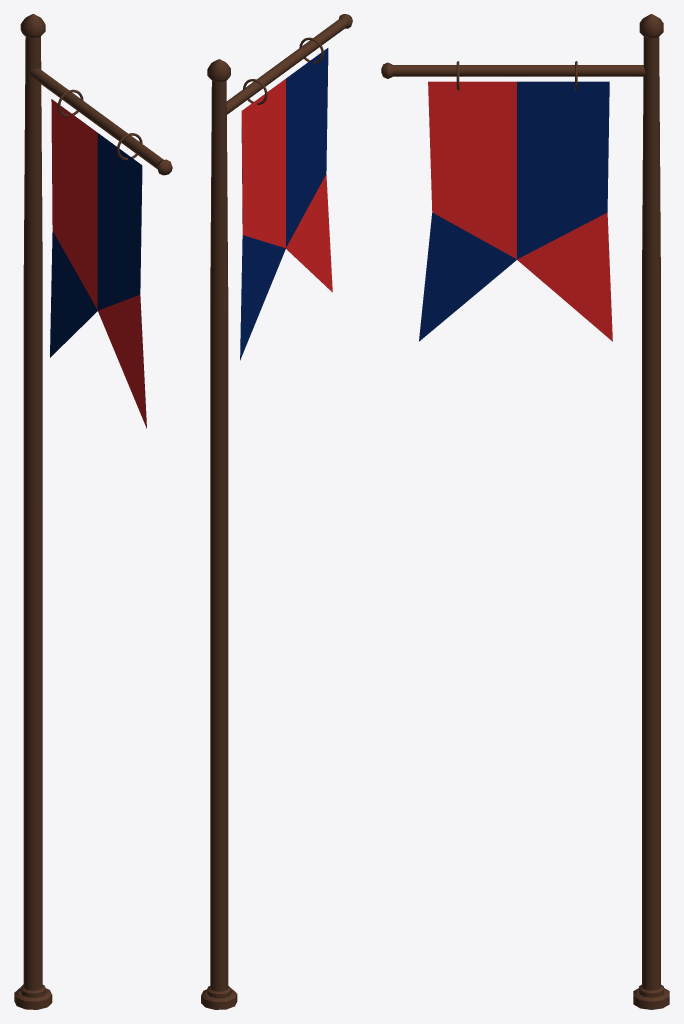
Rendered from Flag_blue_red.obj.
3 views of the same model, side by side, from view 1: azimuth 30°, elevation 25°; view 2: azimuth 150°, elevation 25°; view 3: azimuth 270°, elevation 25° (orthographic). The views are drawn at different scales.
Parts seen in each view (by area): view 1: Tube001, Box004, Box003, Box002, Tube002, ChamferCyl002, ChamferCyl003; view 2: Tube001, Box004, Box003, Box002, Tube002, ChamferCyl002, ChamferCyl003; view 3: Box004, Tube001, Box002, Box001, Tube002.
Part boxes in pixels (x1,y1,x2,y2): Tube001: (23,36,42,990); Box004: (51,99,146,428); Box003: (50,102,142,357); Box002: (50,176,142,357); Tube002: (30,68,163,168); ChamferCyl002: (14,988,52,1009); ChamferCyl003: (20,14,45,37); Tube001: (210,80,228,991); Box004: (241,79,332,292); Box003: (241,48,328,247); Box002: (240,235,285,360); Tube002: (226,18,347,114); ChamferCyl002: (201,989,237,1009); ChamferCyl003: (207,59,230,82); Box004: (428,81,612,341); Tube001: (642,36,660,990); Box002: (517,81,609,259); Box001: (419,212,516,341); Tube002: (392,65,645,76).
Bounding box in the file's own units: 2.58 × 73.53 × 19.44.
